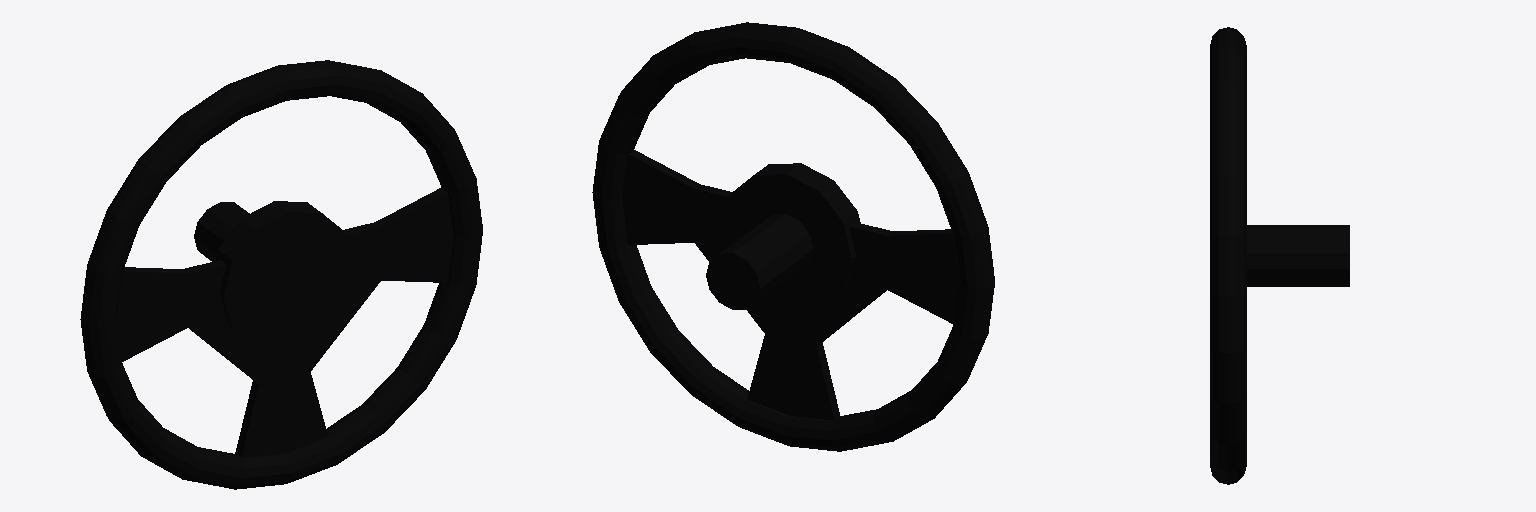
Rendered from SteeringWheel.obj.
3 renders of one model, left to right at view 1: azimuth 30°, elevation 25°; view 2: azimuth 150°, elevation 25°; view 3: azimuth 270°, elevation 25°, orthographic.
Visible parts, largest first — view 1: Handle1; view 2: Handle1; view 3: Handle1.
Part boxes in pixels (x1,y1,x2,y2): Handle1: (80,60,482,489); Handle1: (592,22,994,451); Handle1: (1210,27,1349,484).
Size of the model in its own units: 1.76 by 1.76 by 0.5368.